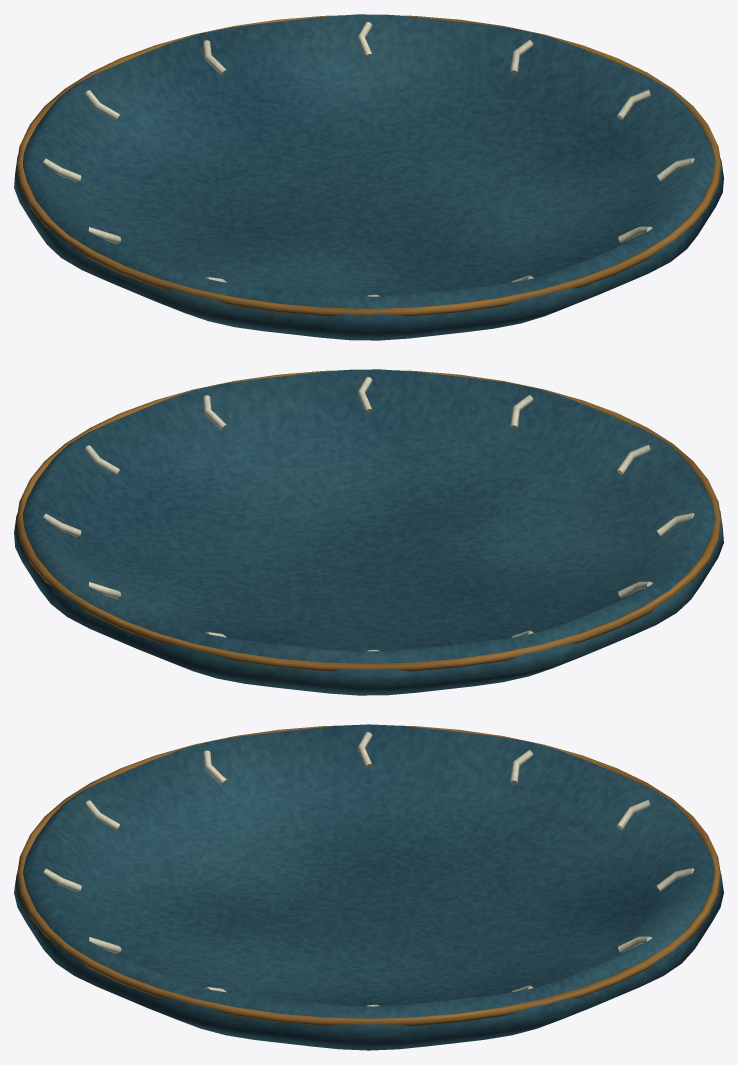
Rendered from PlateBlue.fbx.
3 renders of one model, top to bottom at view 1: azimuth 30°, elevation 25°; view 2: azimuth 150°, elevation 25°; view 3: azimuth 270°, elevation 25°, orthographic.
Visible parts, largest first — view 1: PlateBlue_BlueGlaze, PlateBlue_Brass, PlateBlue_Porcelain; view 2: PlateBlue_BlueGlaze, PlateBlue_Brass, PlateBlue_Porcelain; view 3: PlateBlue_BlueGlaze, PlateBlue_Brass, PlateBlue_Porcelain.
Boxes of the visible parts, <box> form: PlateBlue_BlueGlaze: <box>14,14,723,340</box>; PlateBlue_Brass: <box>16,15,721,316</box>; PlateBlue_Porcelain: <box>43,22,694,296</box>; PlateBlue_BlueGlaze: <box>14,369,723,695</box>; PlateBlue_Brass: <box>16,370,721,671</box>; PlateBlue_Porcelain: <box>43,377,694,651</box>; PlateBlue_BlueGlaze: <box>14,724,723,1050</box>; PlateBlue_Brass: <box>17,725,720,1025</box>; PlateBlue_Porcelain: <box>43,732,694,1006</box>.
Bounding box in the file's own units: 30.64 × 3.9 × 30.64.
